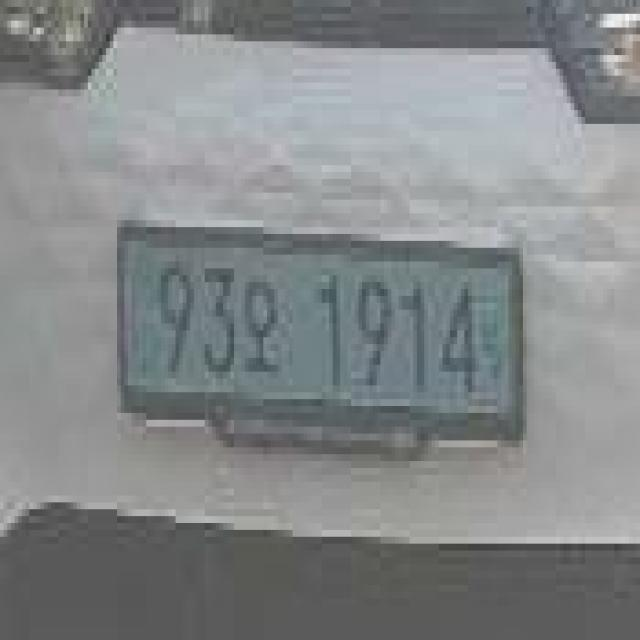EV_plate: (109, 208, 537, 486)
